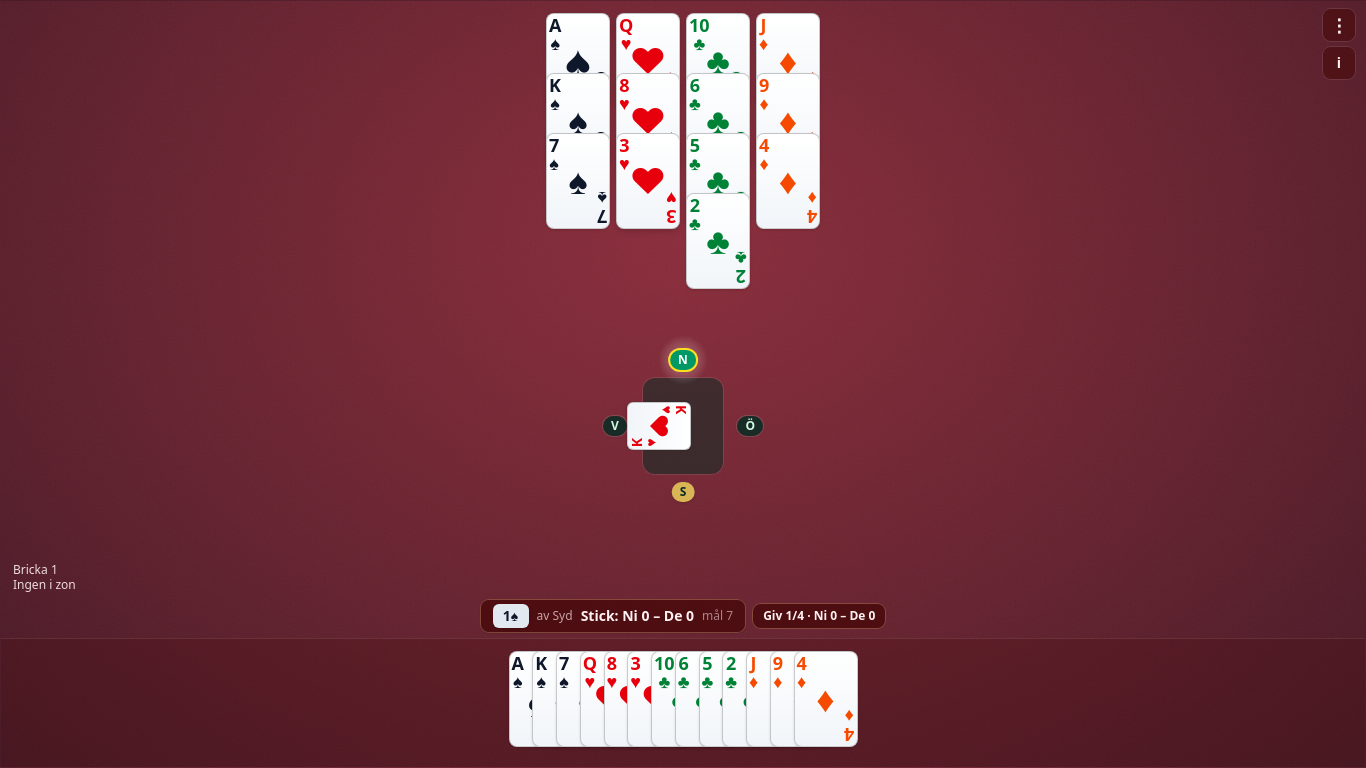
Test: BordSpel — röktest › spelfasen: "◀ Alla färger" när en färg är lyft — samma tvåtrycksväg som spelbordet
Expected: the text "Stick: Ni 0 – De 0" is shown, [581, 606, 694, 626]
Expected: the text "◀ Alla färger" is not shown
Step 1. Click the button "Q ♥ Q ♥ ♥" → (648, 61), box [616, 13, 680, 109]
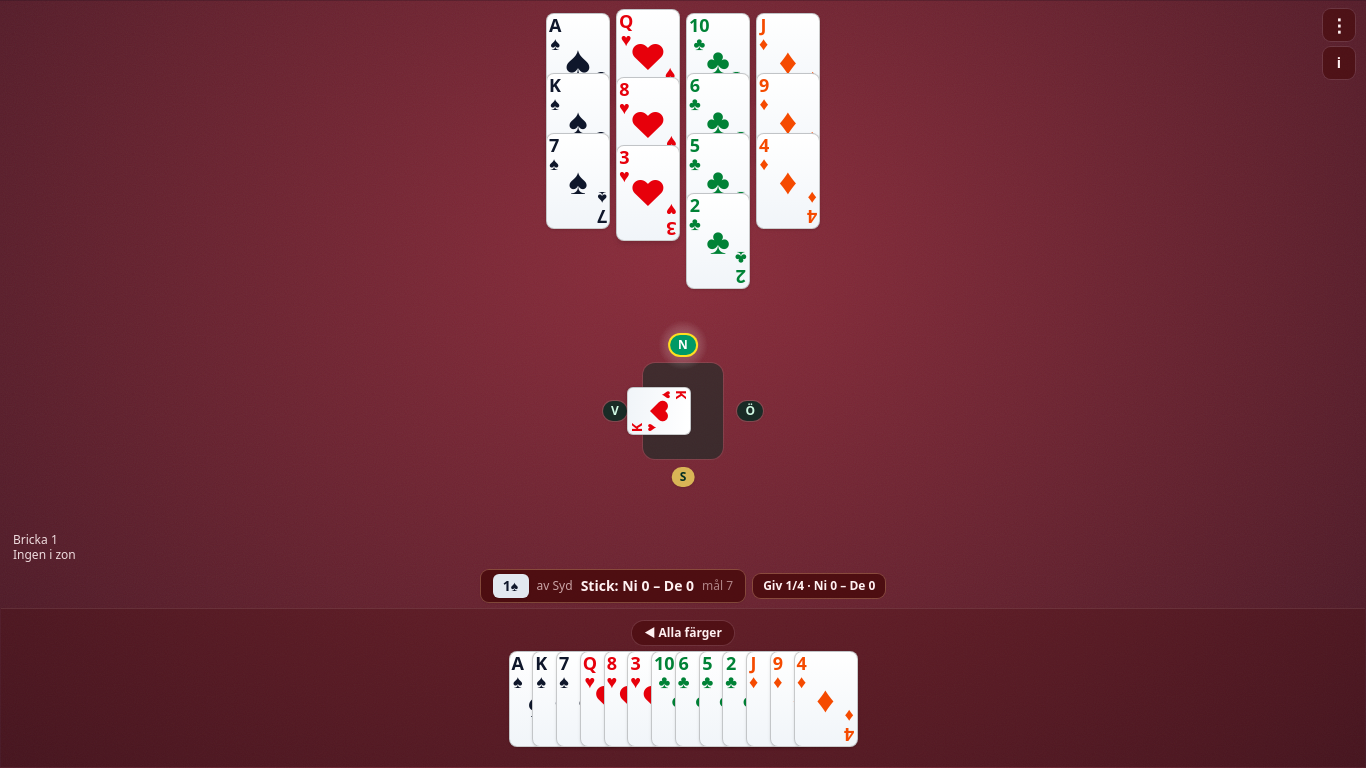
Now the button "◀ Alla färger" is shown
Step 2. Click the button "◀ Alla färger" → (683, 633), box [632, 621, 734, 645]
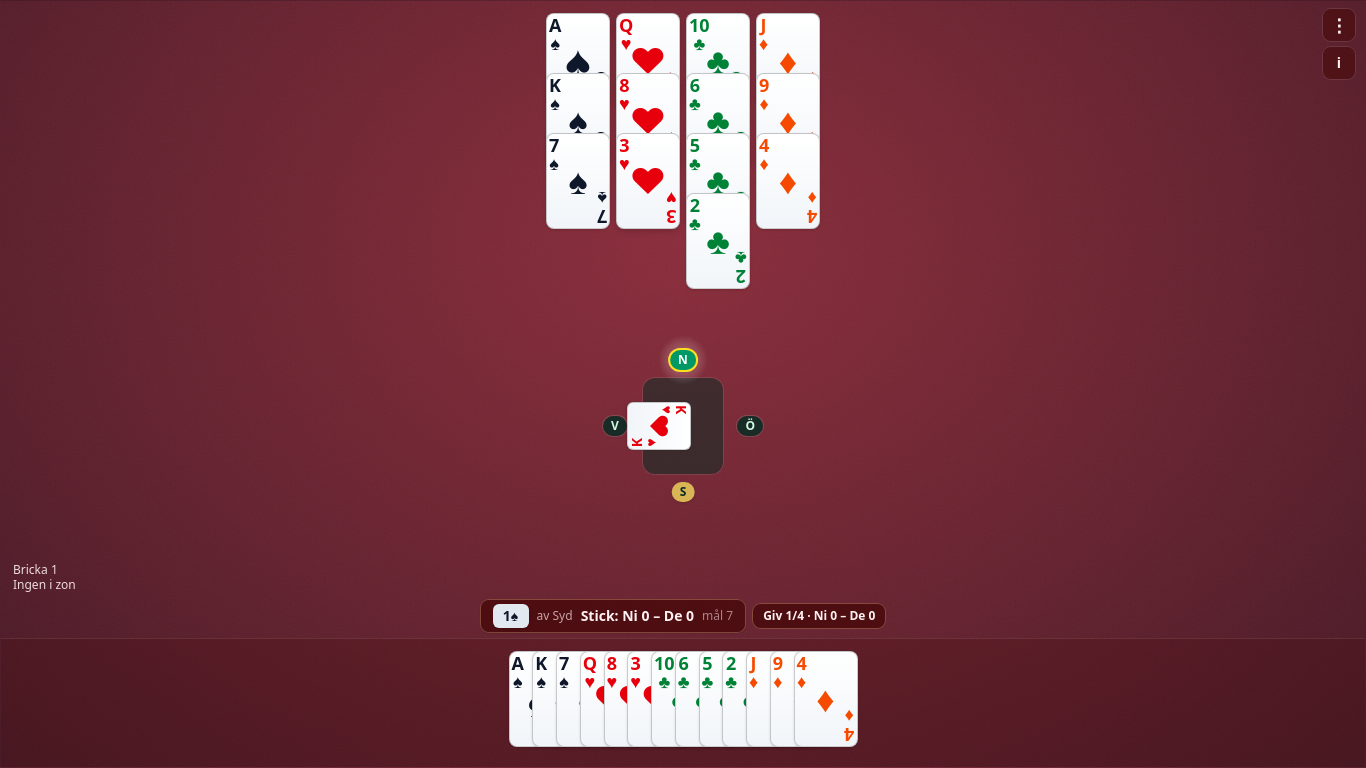
Now the button "◀ Alla färger" is gone
